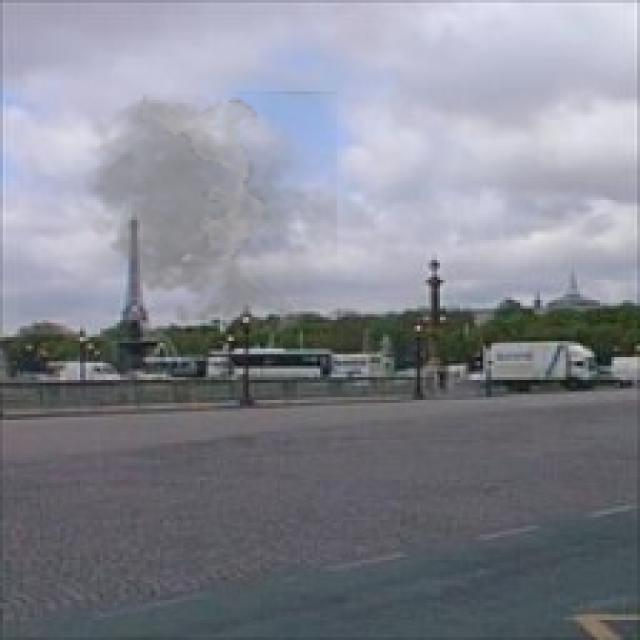Smoke: (71, 91, 338, 340)
